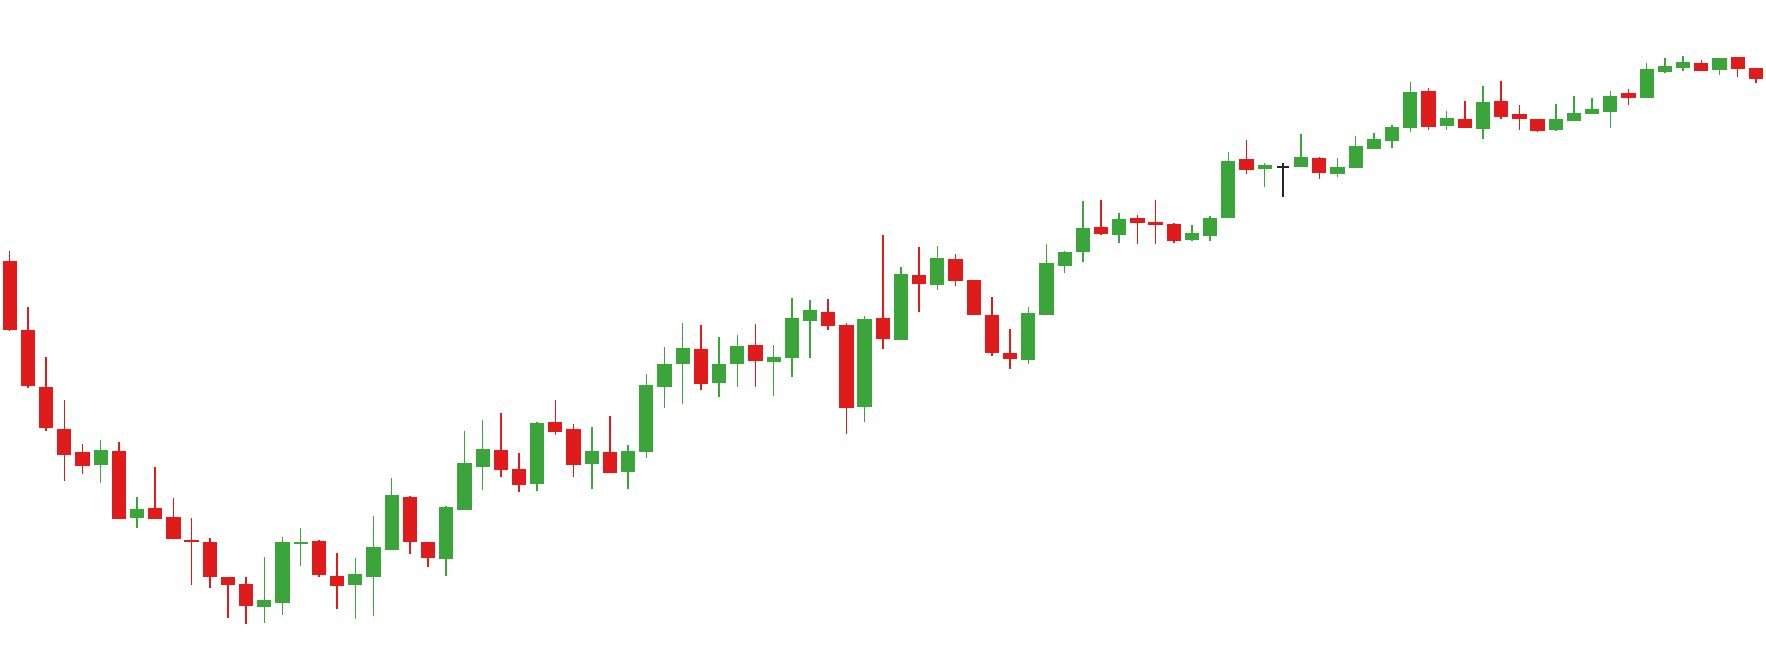buy: (713, 322, 876, 430)
